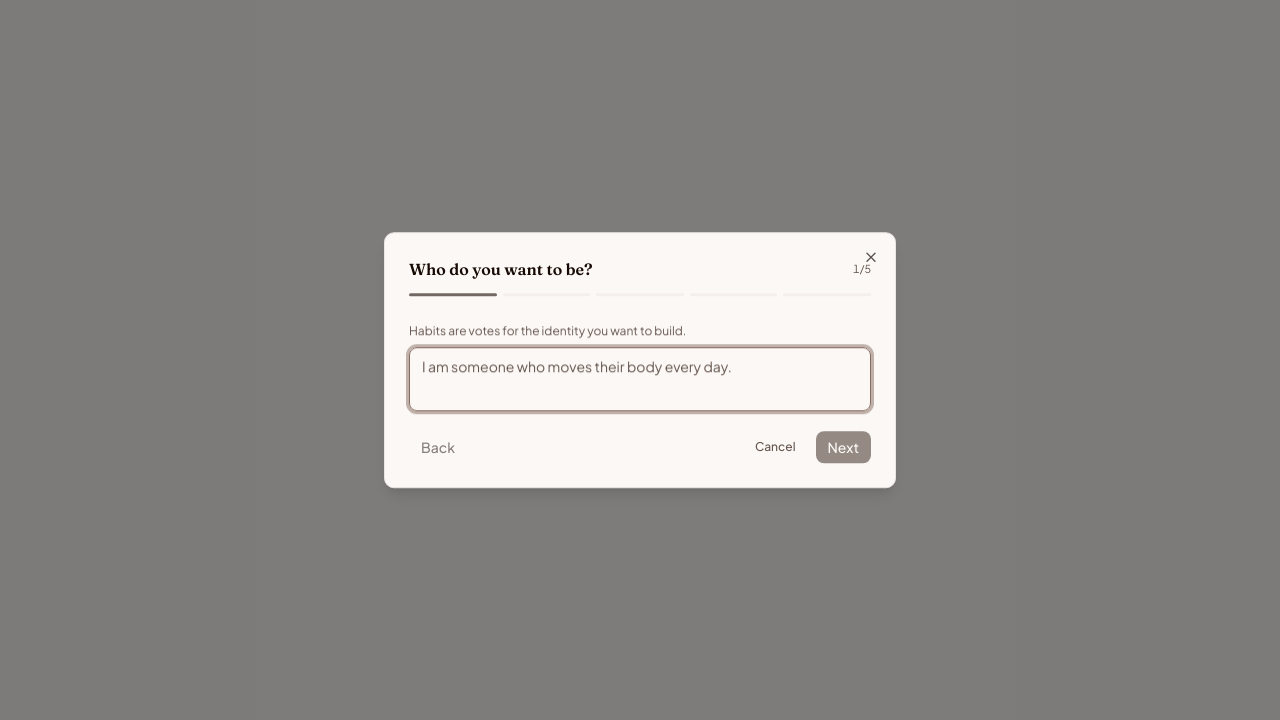
Test: HabitForm walkthrough — state machine › advances to step 2 (name) after filling identity and clicking Next
Type "I am someone who moves every day" into the text box at (640, 379), box [409, 347, 871, 411]
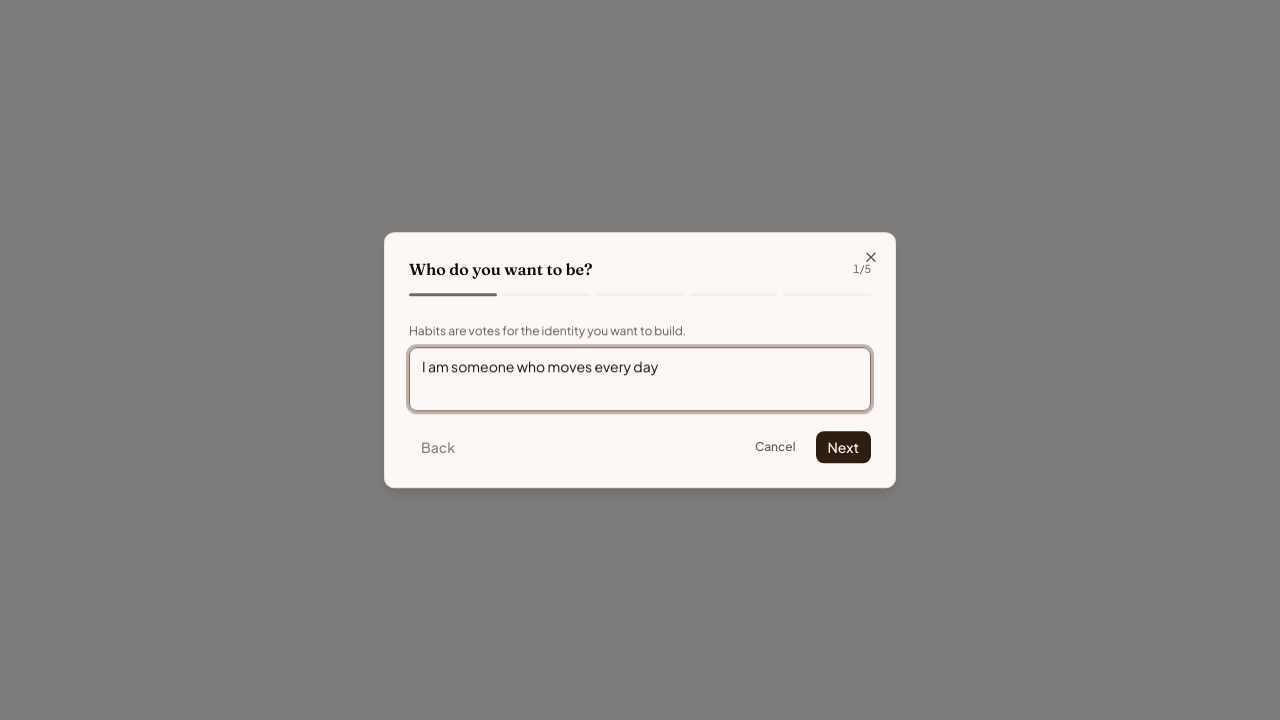
Click the button "Next" at (843, 447), box [816, 431, 871, 463]
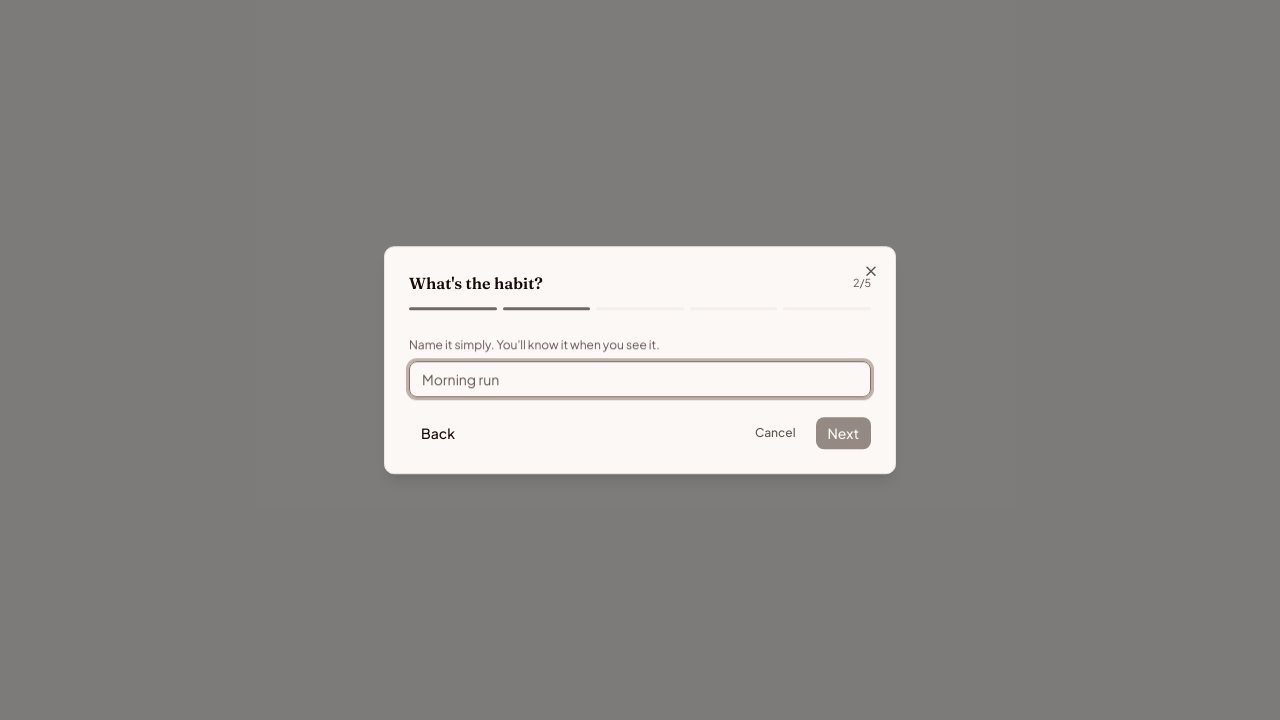
expect the heading "What's the habit?" is shown: met, box [409, 271, 543, 295]
expect the text "2/5" is shown: met, box [853, 275, 871, 292]
